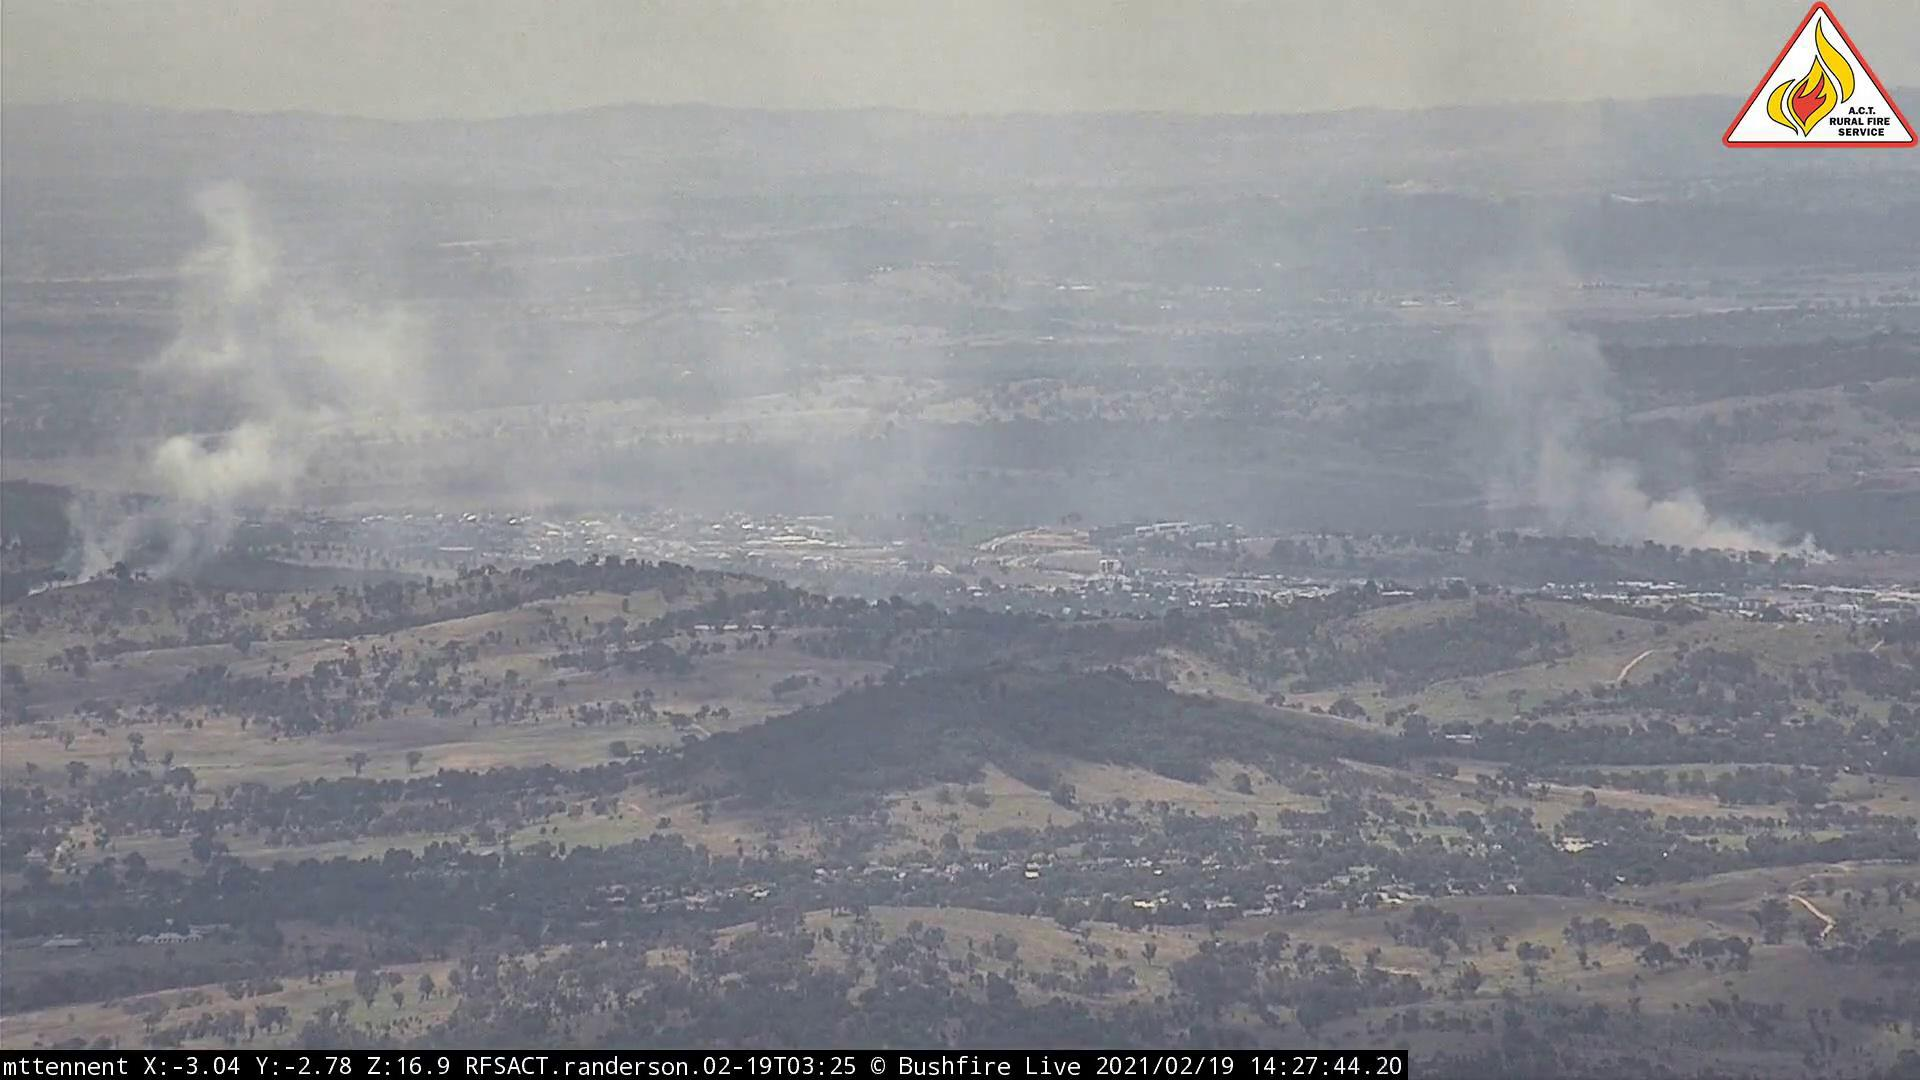Smoke: (24, 140, 471, 615), (1408, 276, 1847, 578)
